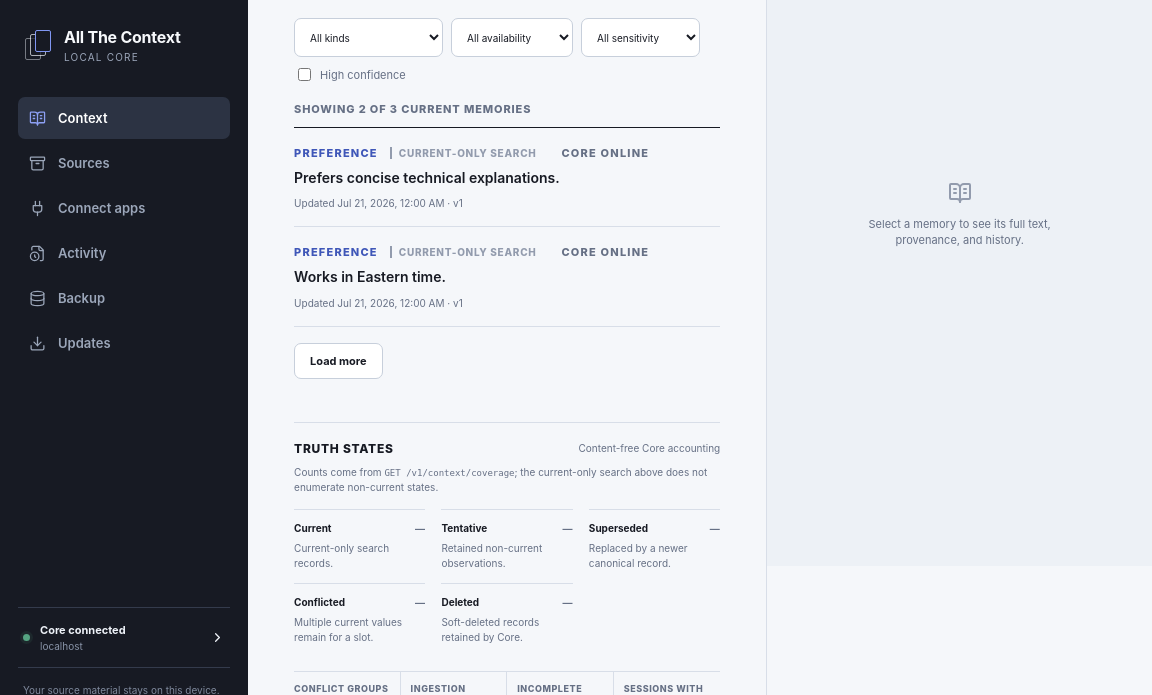
Test: dashboard › shows the API total and loads additional context pages
(page scrolled)
Expected: the text "Showing 2 of 3 current memories" is shown, [294,102,531,116]
Click the button "Load more".
click(338, 361)  # box [294,343,383,379]
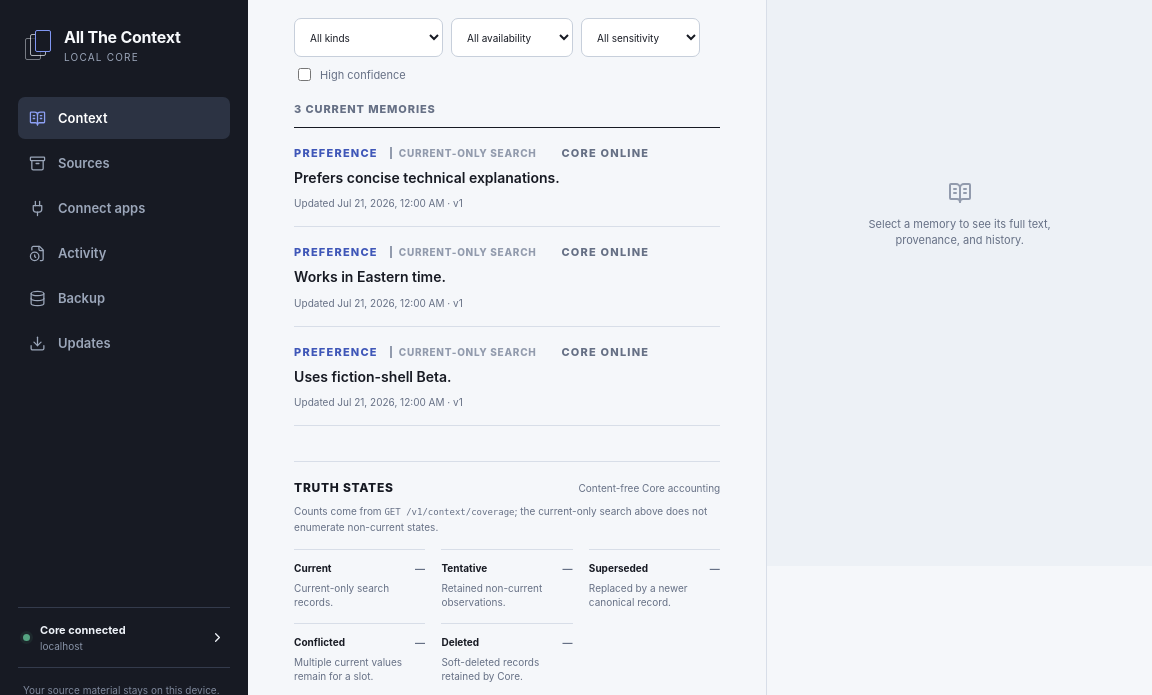
Expected: the text "3 current memories" is shown, [294,102,436,116]
Expected: the text "Uses fiction-shell Beta." is shown, [294,367,452,387]
